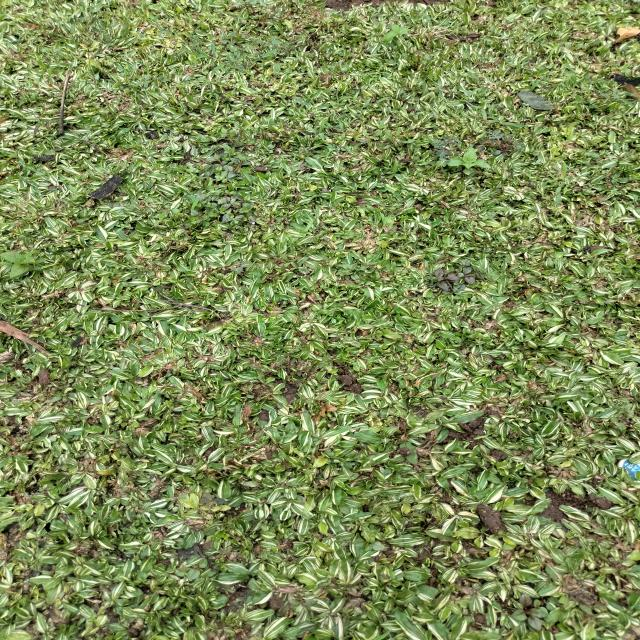buah daun: (481, 129, 528, 154), (429, 136, 465, 164), (198, 490, 227, 512), (230, 258, 255, 276)
gingseng jawa: (382, 127, 416, 145)
rambat atas: (545, 160, 580, 210), (486, 114, 525, 130), (144, 14, 171, 34), (356, 96, 392, 109), (366, 64, 393, 78), (329, 80, 342, 106), (530, 78, 554, 92), (203, 51, 225, 63), (175, 32, 196, 44), (323, 121, 344, 133), (240, 63, 256, 76), (427, 70, 440, 86)
tunggang besar: (445, 145, 493, 182), (0, 249, 48, 278), (382, 22, 413, 48)
tunggang tengah: (263, 347, 322, 392), (136, 75, 172, 88)
ungu tunggang: (184, 190, 259, 229), (199, 143, 254, 188), (426, 259, 488, 294), (509, 590, 552, 633), (173, 558, 213, 584), (338, 261, 360, 281)
